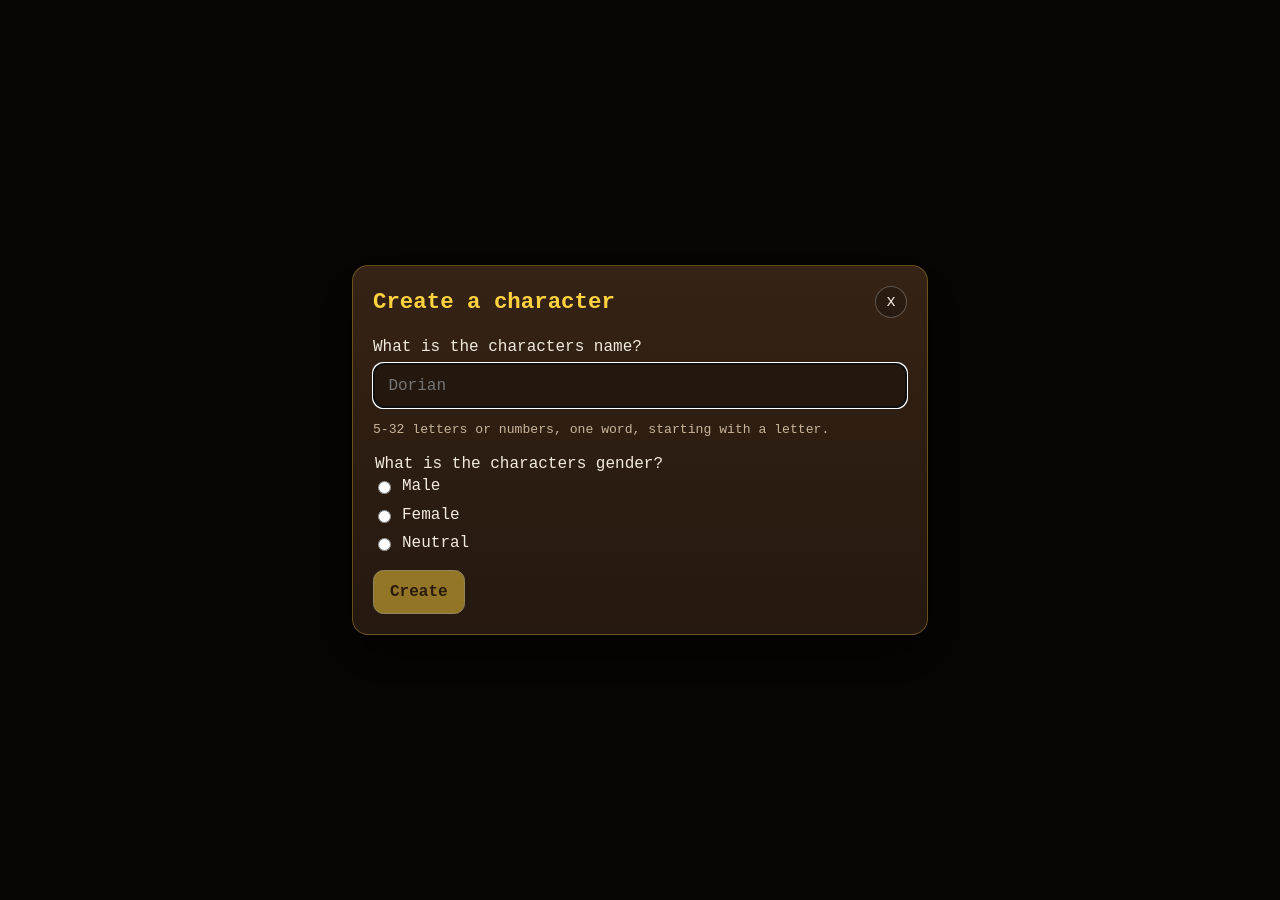
Test case: CharacterEntryModal › shows create API errors
Type "dorian" into the field with placeholder "Dorian" at (640, 386), box [373,363,907,408]
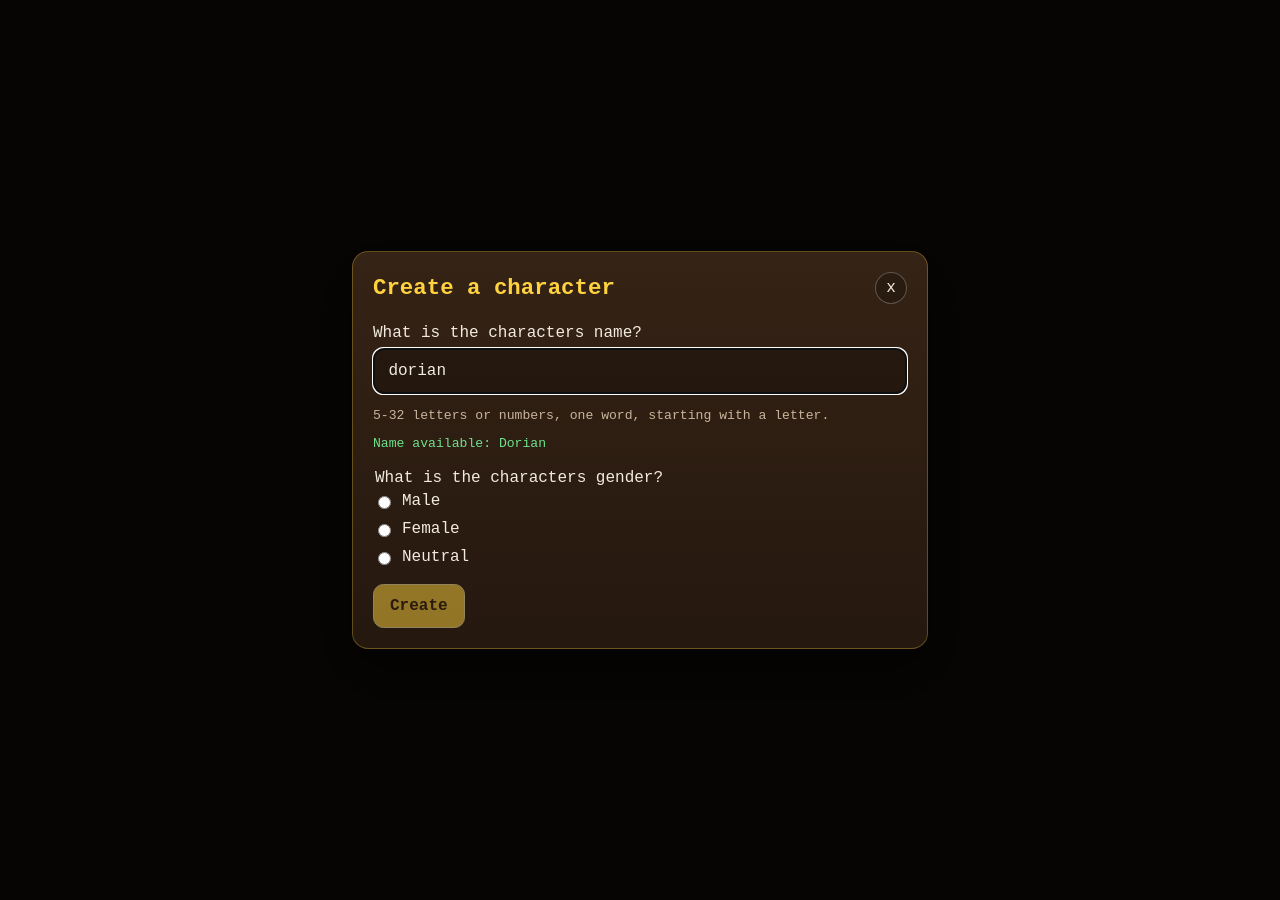
Result: the text "Name available: Dorian" is shown at [373,436,546,451]
Click the radio button labelled "Neutral" at (384, 559), box [378,552,391,565]
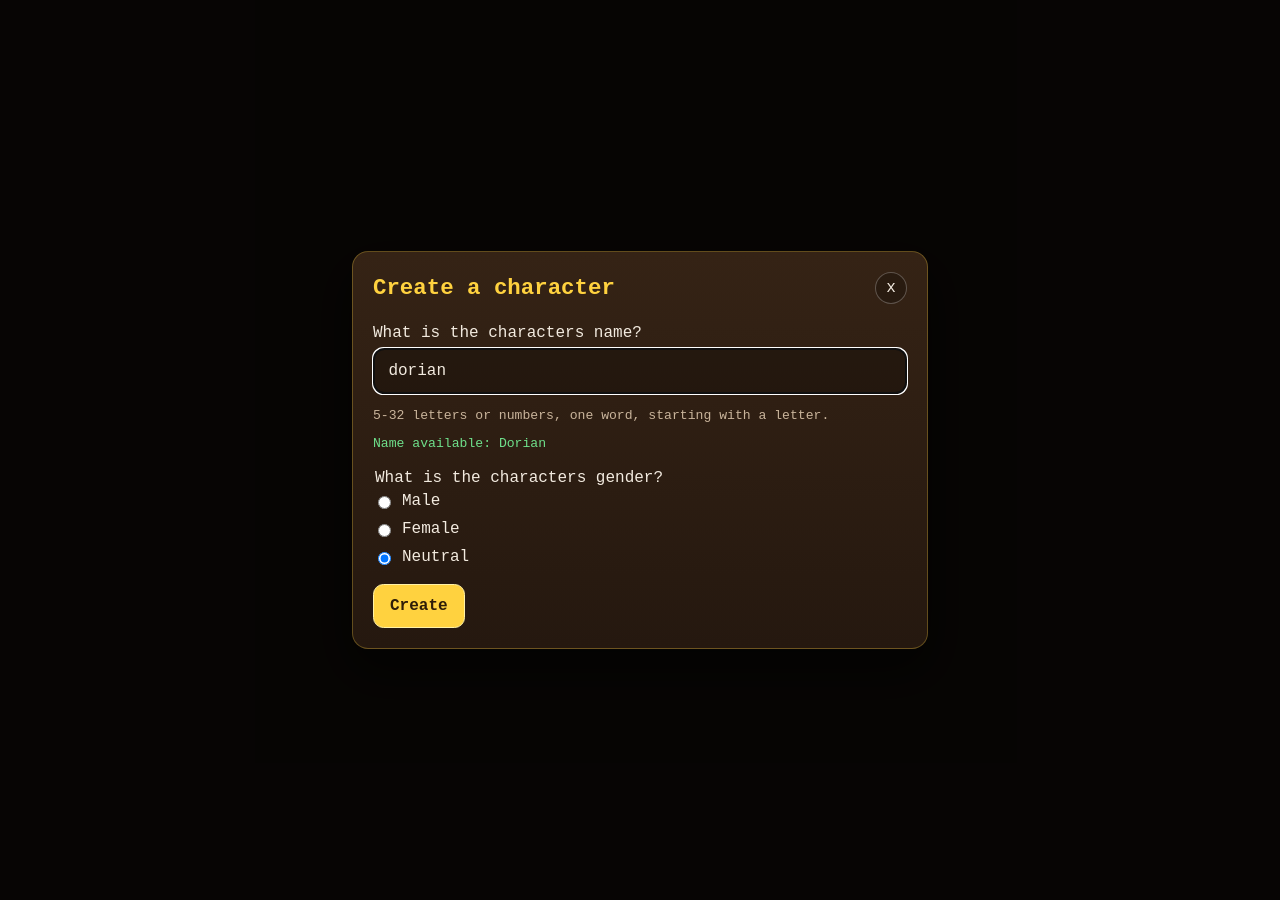
Click the button "Create" at (419, 606), box [373,584,465,628]
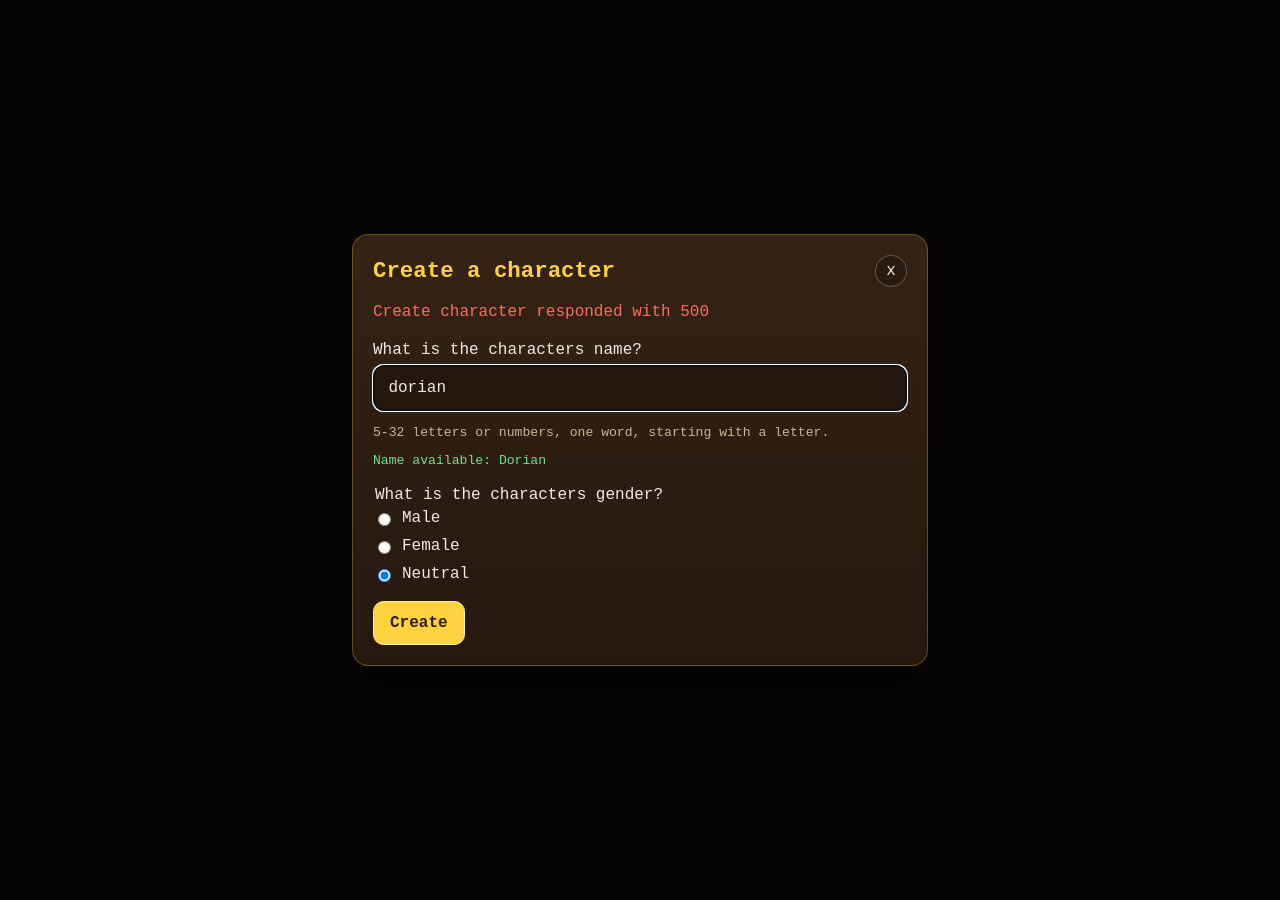
Result: the text "Create character responded with 500" is shown at [373,303,709,321]
